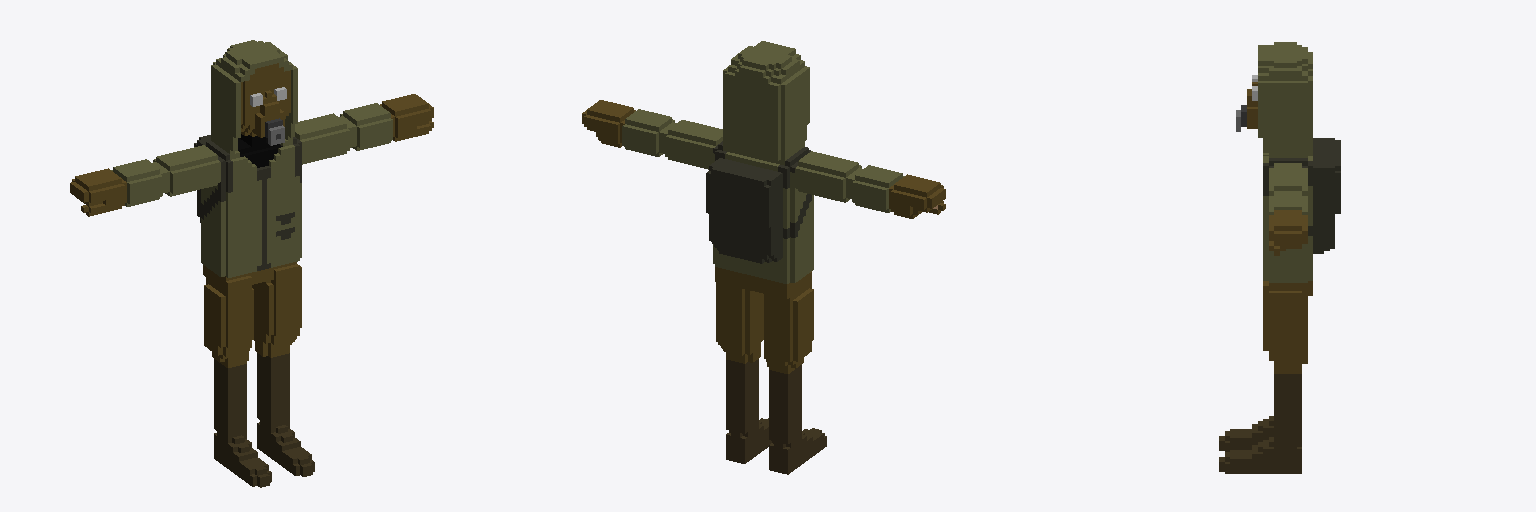
3 renders of one model, left to right at view 1: azimuth 30°, elevation 25°; view 2: azimuth 150°, elevation 25°; view 3: azimuth 270°, elevation 25°, orthographic.
Parts seen in each view (by area): view 1: survivalist; view 2: survivalist; view 3: survivalist.
Boxes of the visible parts, box(x1,y1,x2,y2) form: survivalist: box(70, 40, 433, 487); survivalist: box(582, 41, 945, 474); survivalist: box(1219, 42, 1340, 473).
Bounding box in the file's own units: 73 × 81 × 22.
1 materials, 1 textured.